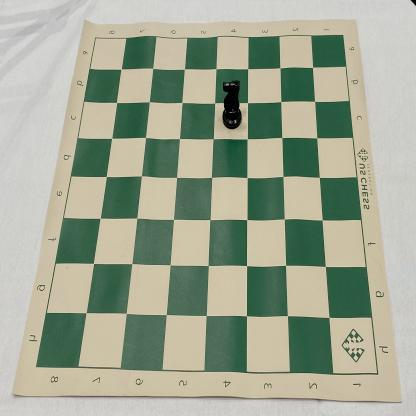black-knight: (221, 79, 243, 131)
